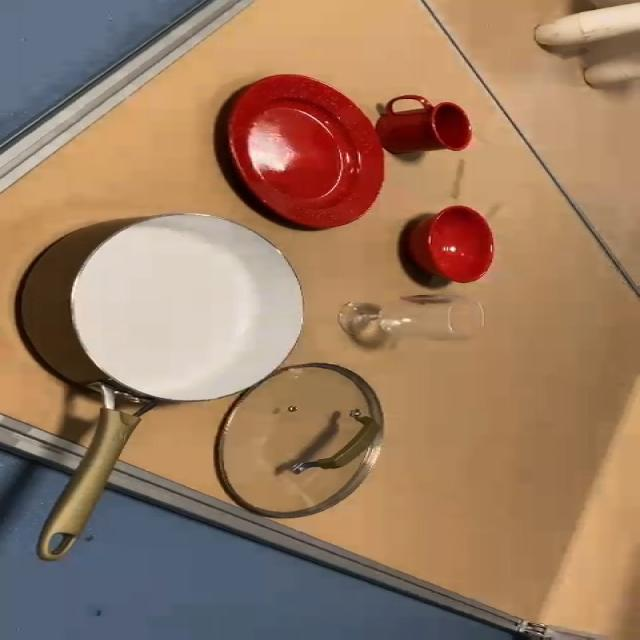Bowl: (403, 208, 500, 294)
Glass: (332, 301, 482, 348)
Plate: (220, 74, 390, 228)
cup: (375, 88, 477, 158)
pot: (20, 208, 317, 558)
